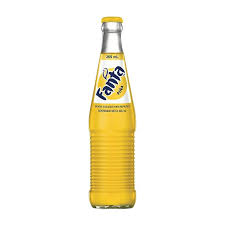not-coke: (76, 13, 153, 211)
